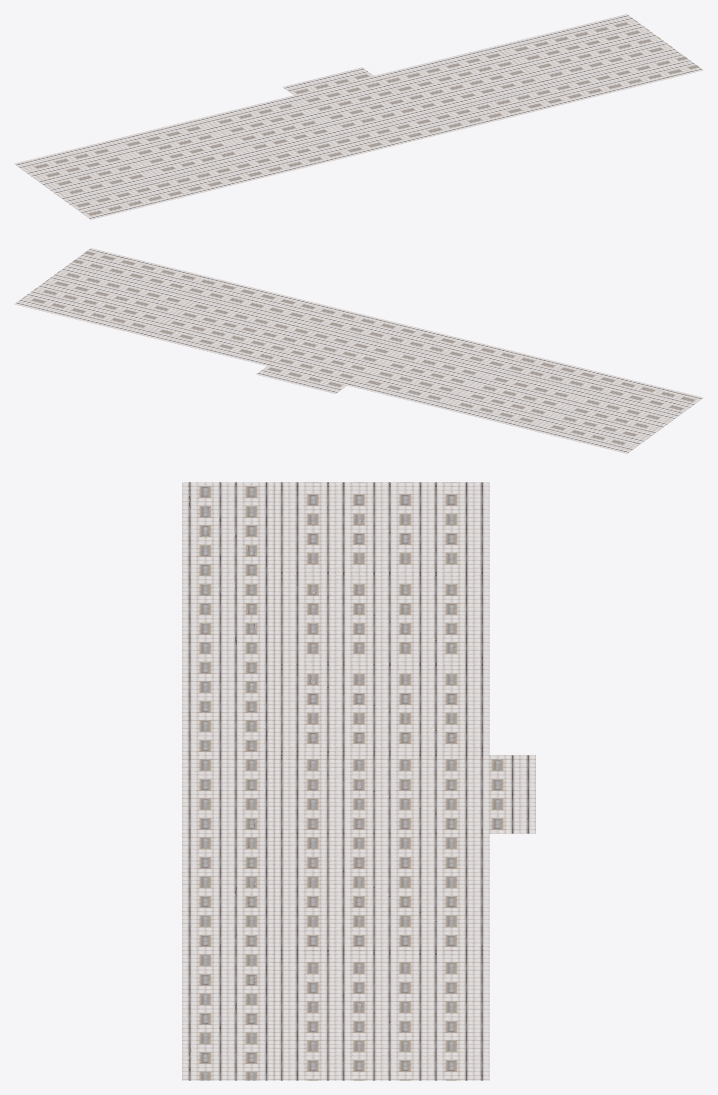
The model's file is a_sccelling04.glb.
3 renders of one model, top to bottom at view 1: azimuth 30°, elevation 25°; view 2: azimuth 150°, elevation 25°; view 3: azimuth 270°, elevation 25°, orthographic. The views are drawn at different scales.
Parts seen in each view (by area): view 1: a_sccelling04; view 2: a_sccelling04; view 3: a_sccelling04.
Boxes of the visible parts, <box> form: a_sccelling04: <box>14,14,703,219</box>; a_sccelling04: <box>14,248,703,453</box>; a_sccelling04: <box>182,482,535,1080</box>.
Bounding box in the file's own units: 92 × 2.38e-07 × 23.
1 material, 1 textured.
